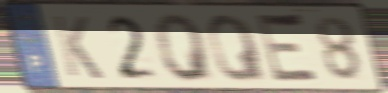2: (105, 13, 159, 82)
8: (313, 15, 364, 83)
E: (254, 10, 323, 87)
K: (50, 13, 107, 82)
Q: (204, 12, 270, 85), (152, 12, 218, 84)
